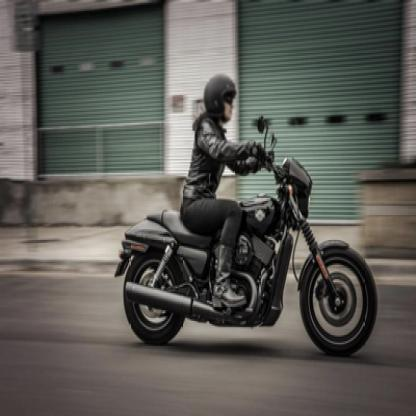Helmet: (200, 70, 238, 126)
